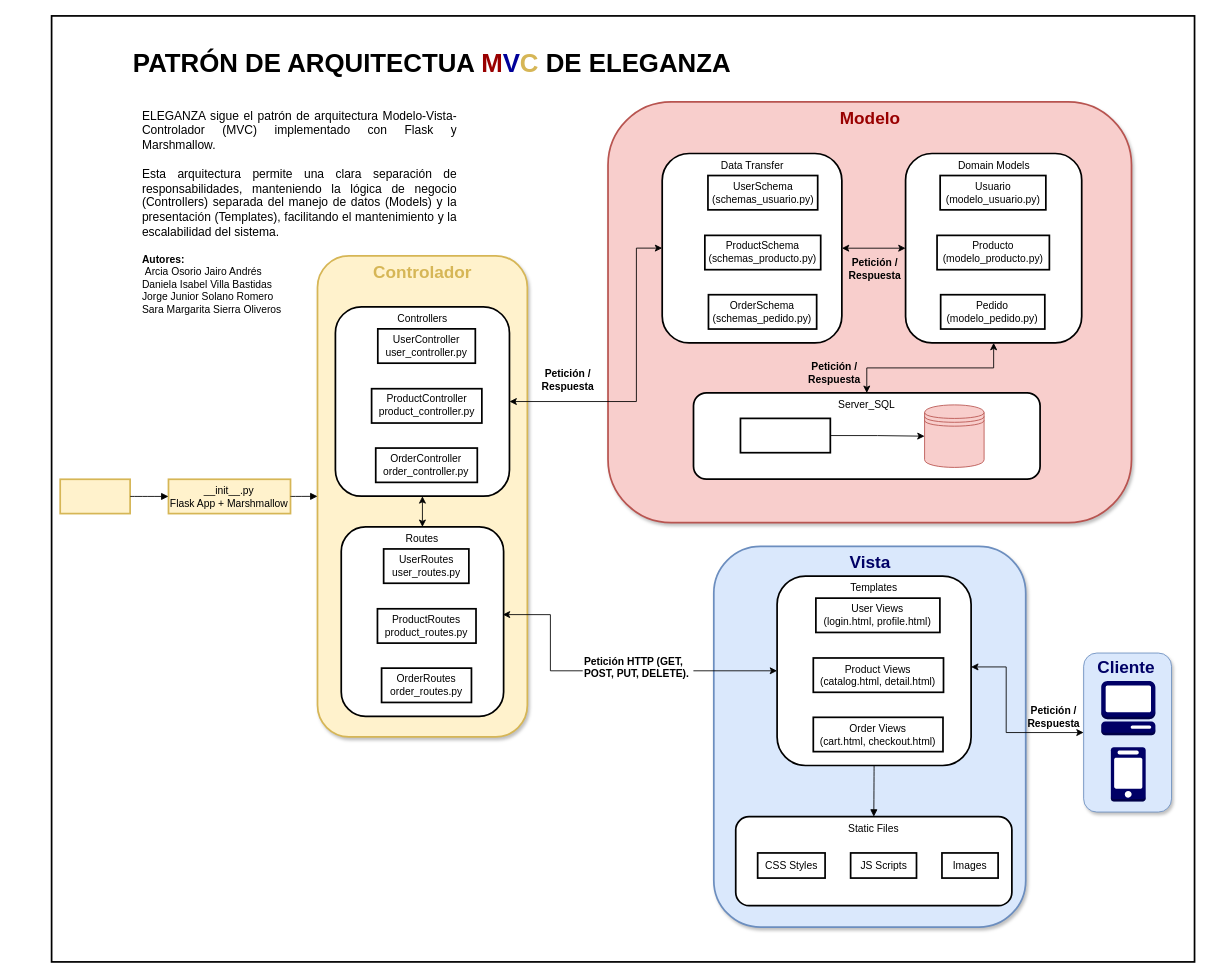
Some shapes in this 1210 by 977 pixel diagram are drawn without their labels. The centre of each missing label's shape, as x and y in pixels:
Base_ Eleganza: [954,435]
Database Config (config.py): [785,435]
Run ServerApp (run.py): [95,496]
